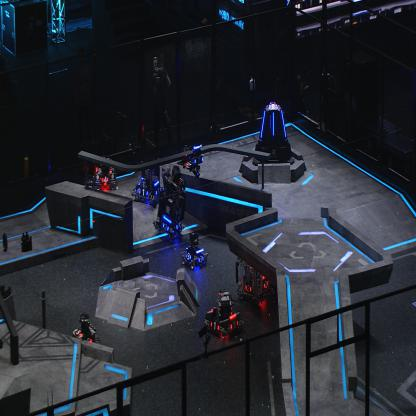car: (235, 236, 277, 304), (151, 165, 186, 241), (204, 288, 244, 340), (132, 154, 164, 209), (72, 310, 99, 354), (179, 231, 208, 271), (92, 156, 117, 190)
